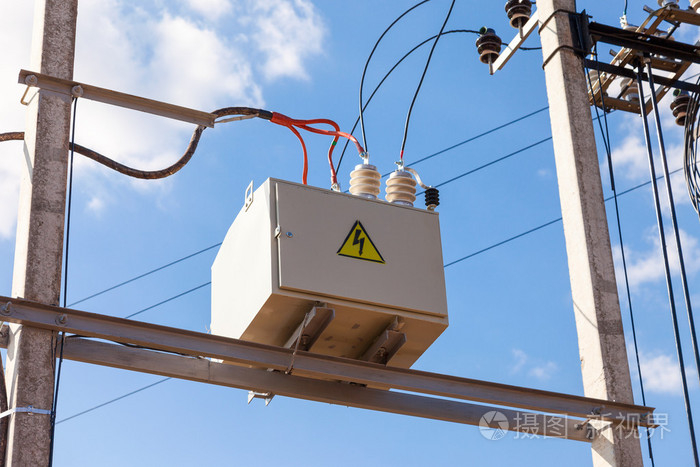insulator: (385, 175, 418, 202), (349, 168, 379, 196), (670, 94, 696, 125), (474, 34, 501, 63), (504, 1, 530, 27)
